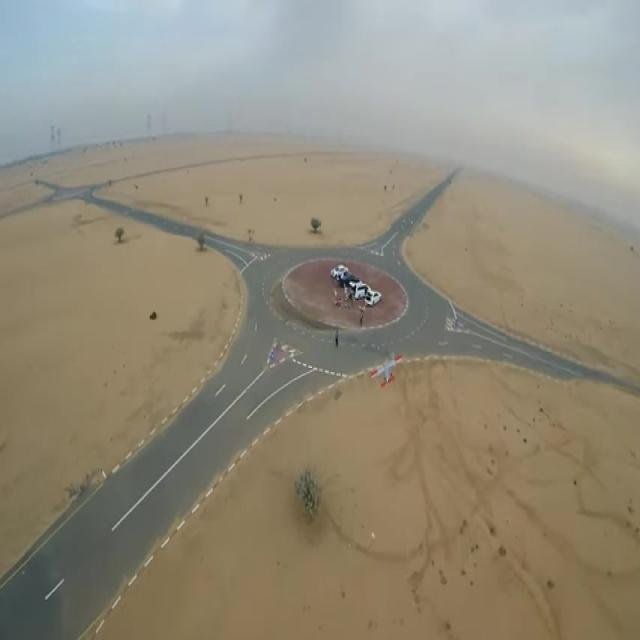iha: (370, 353, 403, 388)
